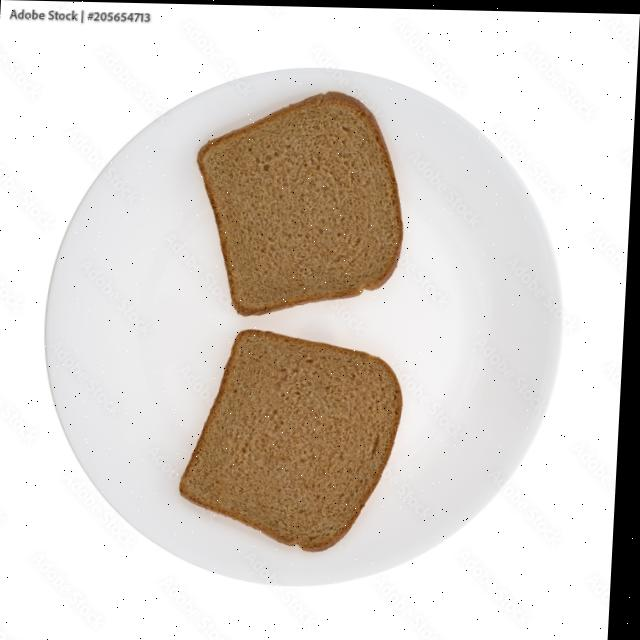Bread: (185, 330, 406, 550), (199, 90, 404, 315), (199, 90, 404, 314)
